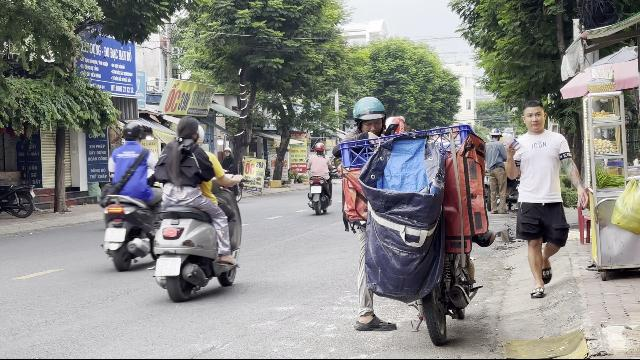helmet: (121, 120, 143, 144)
licenseplate: (156, 258, 180, 276), (104, 228, 126, 242)
motorcyclist: (148, 115, 244, 303), (98, 119, 162, 271)
nohelmet: (174, 115, 202, 144)
